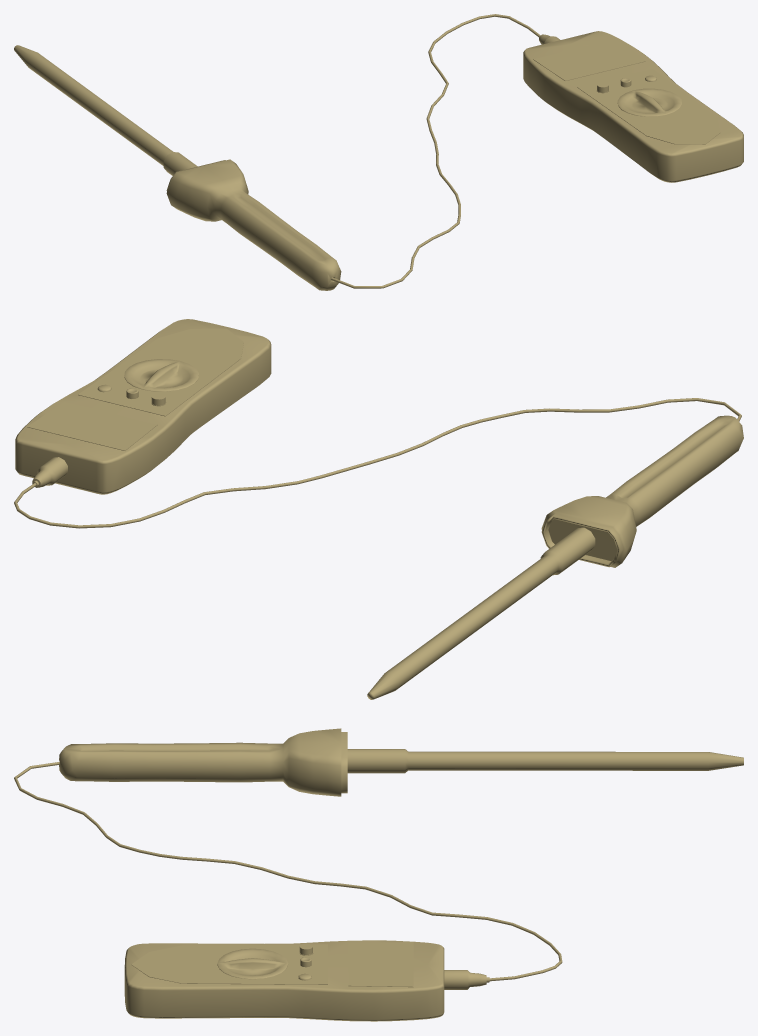
The model's file is CDY.fbx.
The picture shows the model from 3 angles, top to bottom: view 1: azimuth 30°, elevation 25°; view 2: azimuth 150°, elevation 25°; view 3: azimuth 270°, elevation 25°; orthographic projection. The views are drawn at different scales.
Visible parts, largest first — view 1: low5; view 2: low5; view 3: low5.
Boxes of the visible parts, x1,y1,x2,y2 form: low5: (14, 14, 743, 290); low5: (14, 319, 743, 699); low5: (14, 728, 743, 1021).
Size of the model in its own units: 0.3538 by 0.0254 by 0.419.
